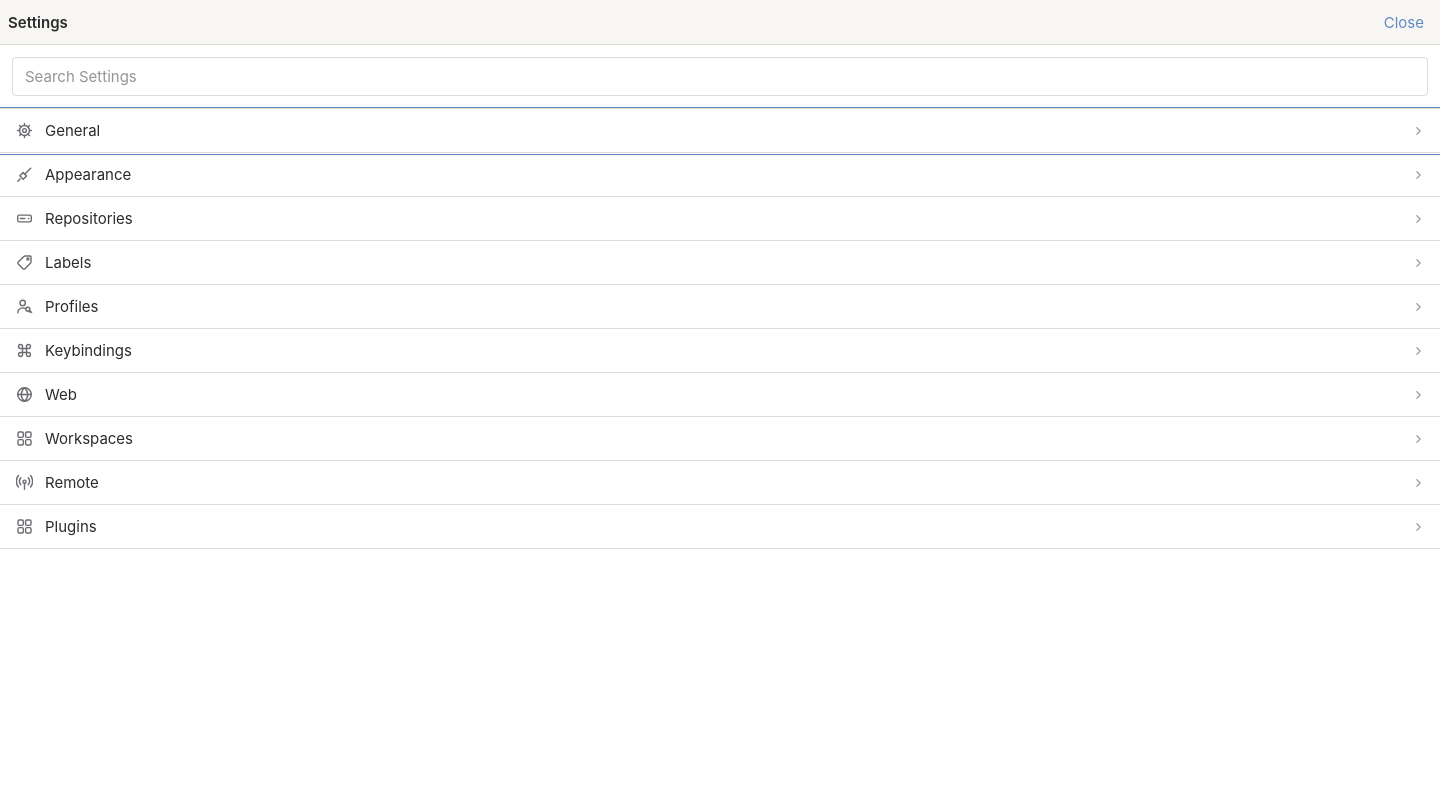
Test: Settings search in the host › keeps phone search on the list and transfers focus to an opened graph control
In the search field with test id "settings-search": (720, 76) [12,57,1428,96], type "Graph colour"
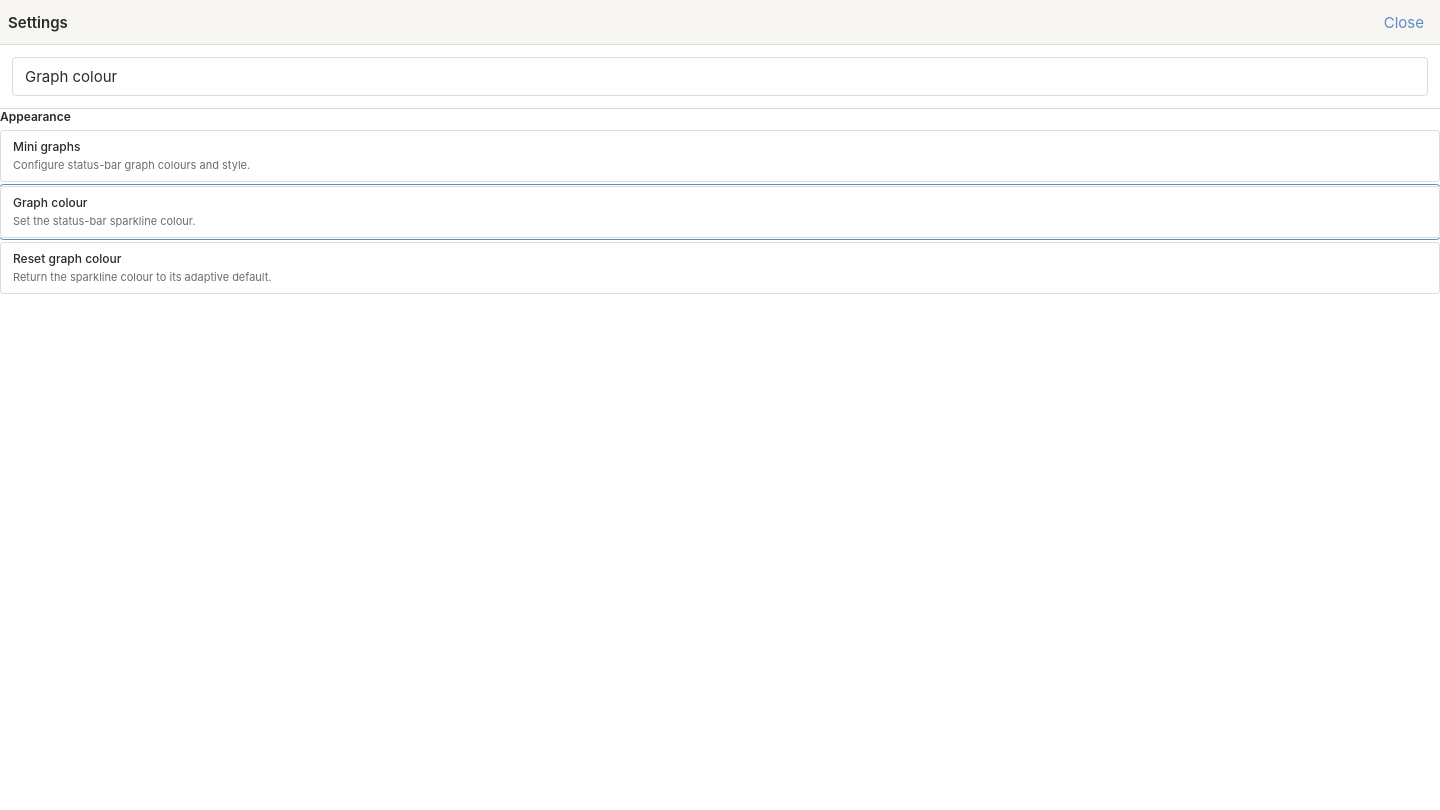
Click the button "Graph colour Set the status-bar sparkline colour.": (50, 202) [0,186,1439,238]
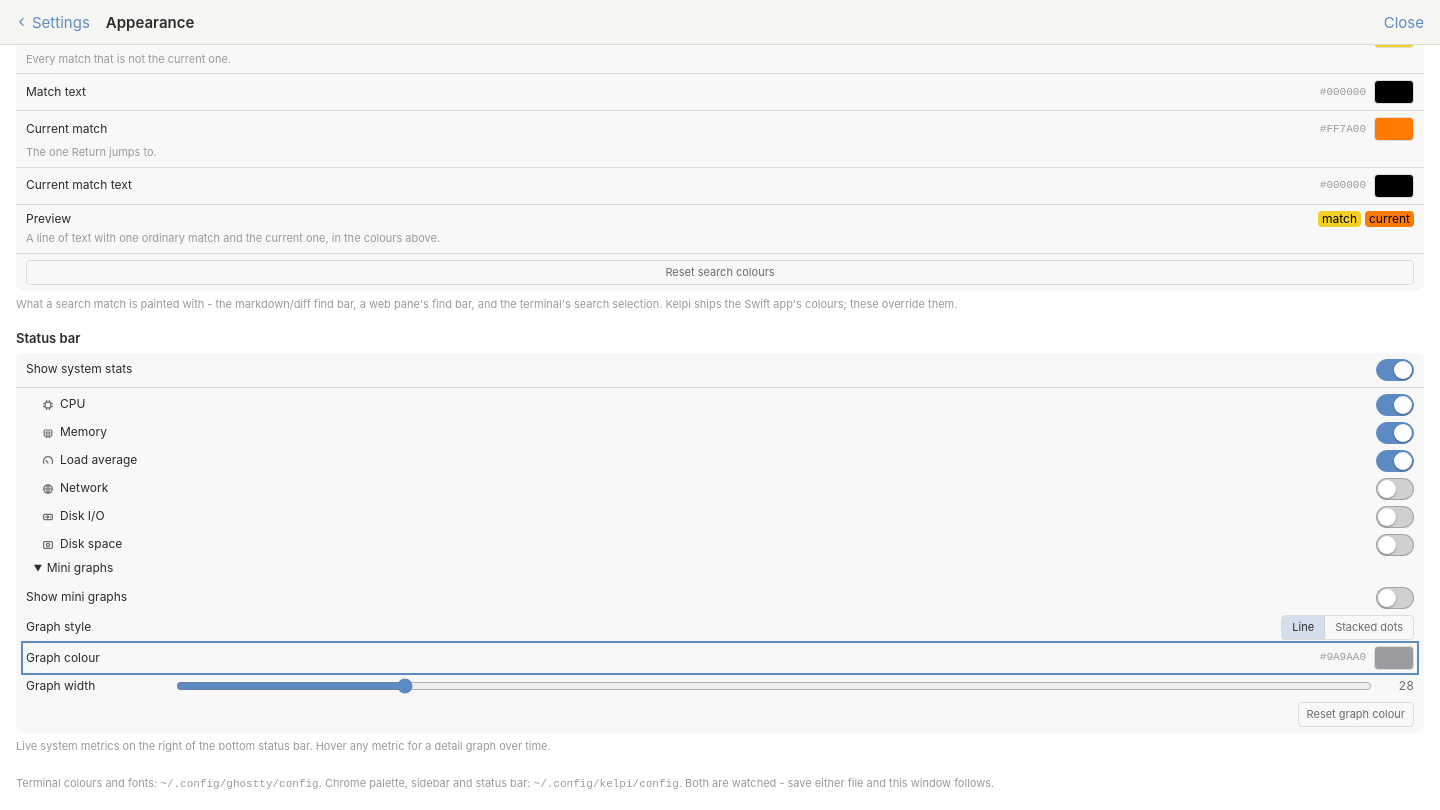
Now the search field with test id "settings-search" is gone
Click the button with test id "settings-phone-back": (53, 22) [8,0,98,44]
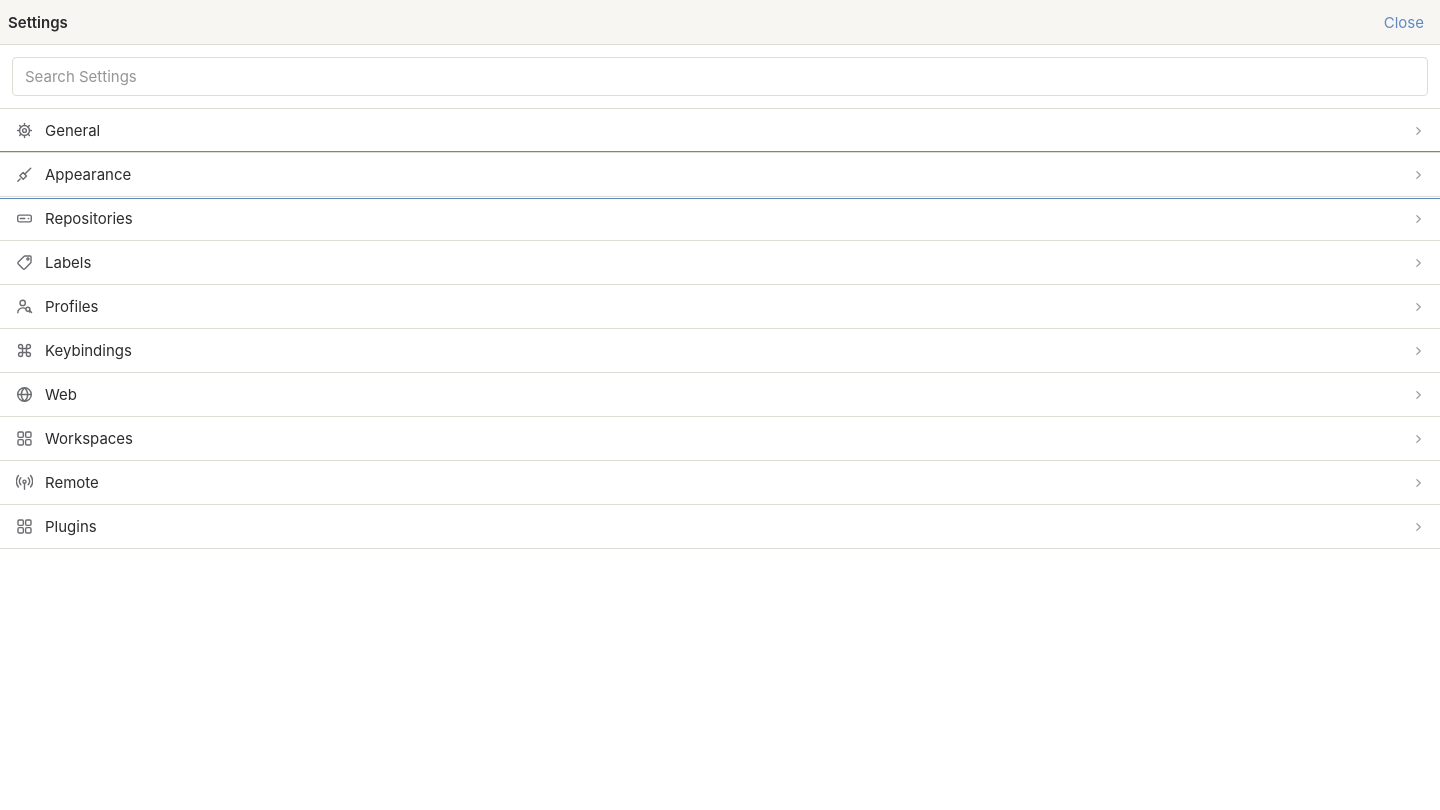
Now the search field with test id "settings-search" is shown, box [12,57,1428,96]
